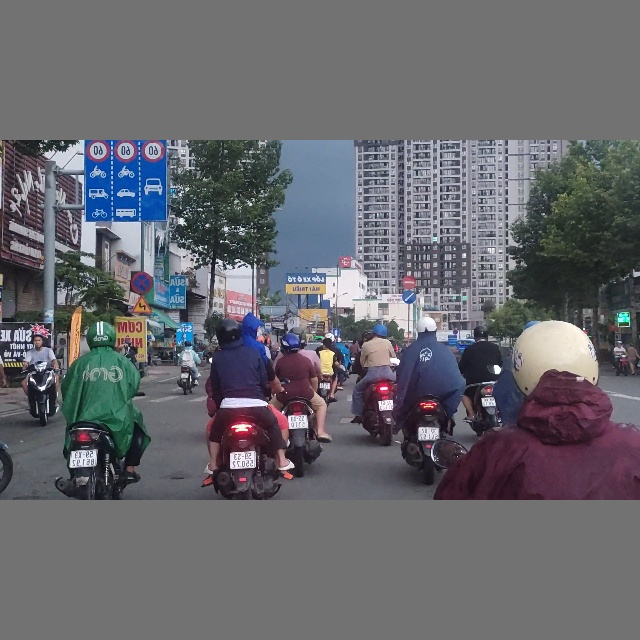I.407a: (333, 328, 340, 337)
I.434a: (264, 323, 272, 332)
P.102: (402, 276, 416, 289)
P.127*60: (85, 140, 111, 162), (114, 140, 137, 163), (142, 140, 165, 162)
P.130: (130, 271, 153, 294)
R.302a: (402, 291, 416, 304)
R.415a: (85, 164, 167, 222)
W.202b: (132, 295, 152, 313)
